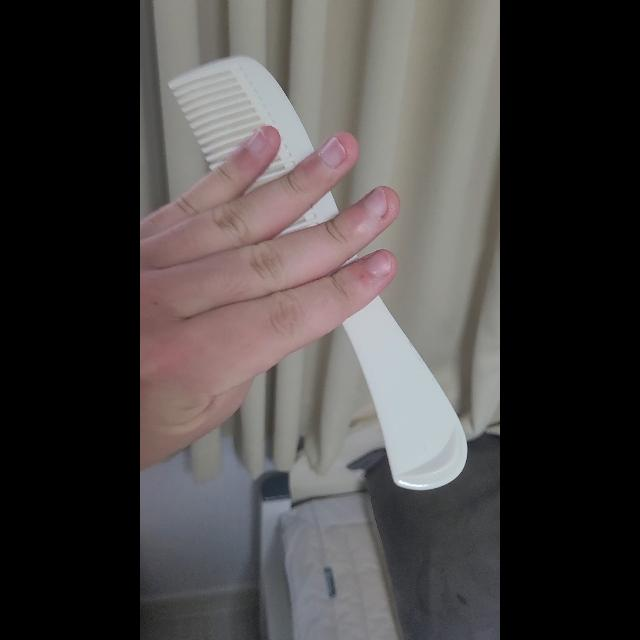COMB: (168, 54, 468, 492)
